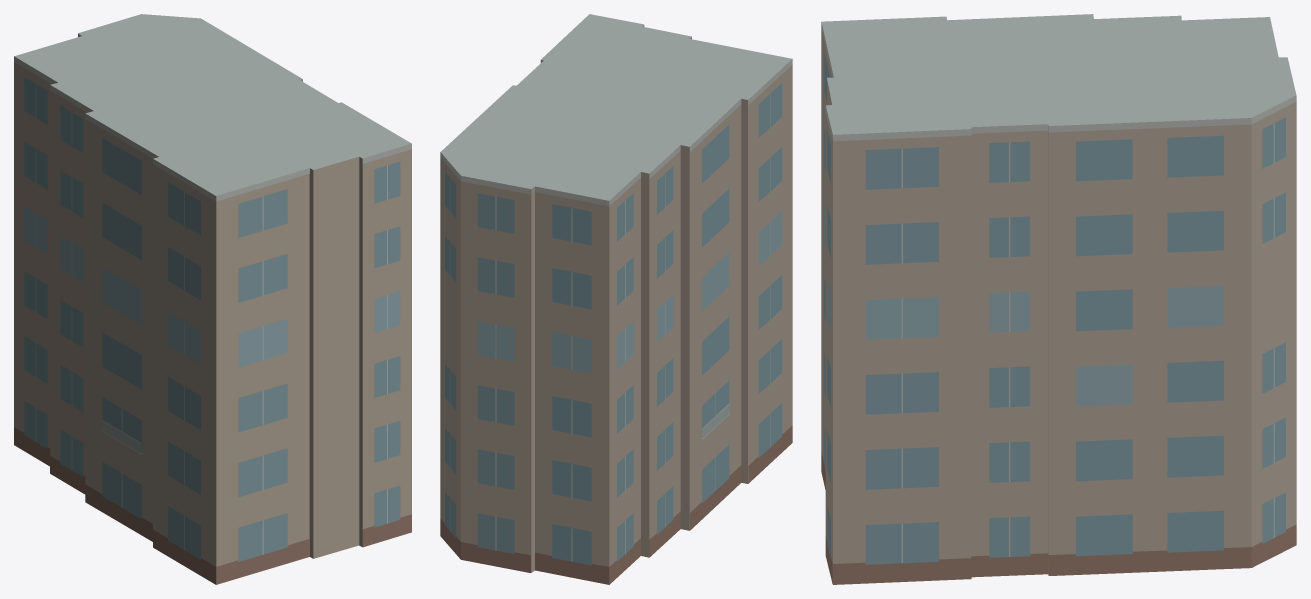
The model's file is survey-upis-32716520.glb.
3 views of the same model, side by side, from view 1: azimuth 30°, elevation 25°; view 2: azimuth 150°, elevation 25°; view 3: azimuth 270°, elevation 25° (orthographic). The views are drawn at different scales.
Visible parts, largest first — view 1: survey-upis-32716520.tmp; view 2: survey-upis-32716520.tmp; view 3: survey-upis-32716520.tmp.
Part boxes in pixels (x1,y1,x2,y2): survey-upis-32716520.tmp: [14, 14, 411, 584]; survey-upis-32716520.tmp: [440, 14, 792, 584]; survey-upis-32716520.tmp: [821, 14, 1296, 584].
Bounding box in the file's own units: 9.8 × 17 × 16.28.
